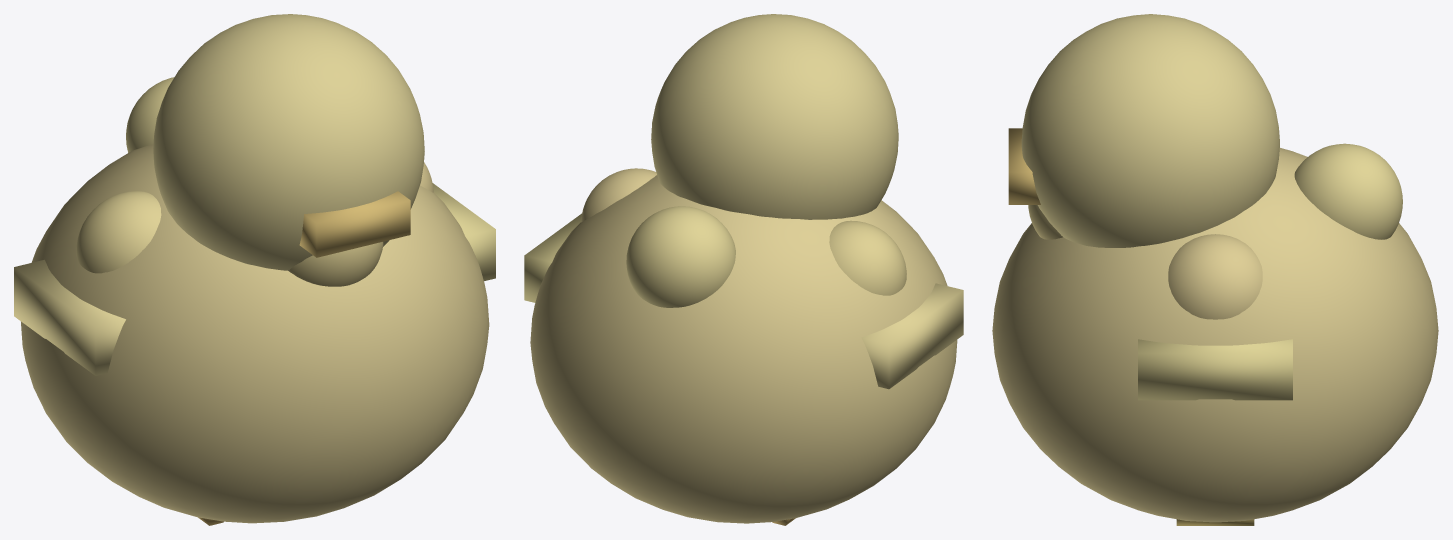
File: lifecycle_duck_baby.glb
3 renders of one model, left to right at view 1: azimuth 30°, elevation 25°; view 2: azimuth 150°, elevation 25°; view 3: azimuth 270°, elevation 25°, orthographic. The views are drawn at different scales.
Parts seen in each view (by area): view 1: body, head, wing-1, tuft2, beak, tuft1, wing1, tuft3; view 2: body, head, tuft3, wing-1, tuft2, tuft0, wing1; view 3: body, head, wing1, tuft3, tuft0, beak, tuft1.
Part boxes in pixels (x1=…): body: x1=21, y1=144, x2=489, y2=523; head: x1=153, y1=14, x2=424, y2=270; wing-1: x1=14, y1=259, x2=125, y2=375; tuft2: x1=76, y1=191, x2=161, y2=273; beak: x1=299, y1=191, x2=410, y2=257; tuft1: x1=288, y1=242, x2=383, y2=286; wing1: x1=432, y1=183, x2=495, y2=281; tuft3: x1=126, y1=77, x2=174, y2=152; body: x1=530, y1=175, x2=957, y2=523; head: x1=651, y1=14, x2=898, y2=219; tuft3: x1=626, y1=206, x2=735, y2=307; wing-1: x1=861, y1=283, x2=963, y2=389; tuft2: x1=829, y1=220, x2=906, y2=295; tuft0: x1=581, y1=168, x2=656, y2=222; wing1: x1=524, y1=213, x2=581, y2=302; body: x1=992, y1=148, x2=1438, y2=522; head: x1=1021, y1=14, x2=1279, y2=247; wing1: x1=1138, y1=339, x2=1292, y2=400; tuft3: x1=1294, y1=143, x2=1402, y2=239; tuft0: x1=1168, y1=234, x2=1262, y2=319; beak: x1=1008, y1=128, x2=1040, y2=204; tuft1: x1=1028, y1=205, x2=1062, y2=239.
Size of the model in its own units: 0.345 by 0.4025 by 0.345.
